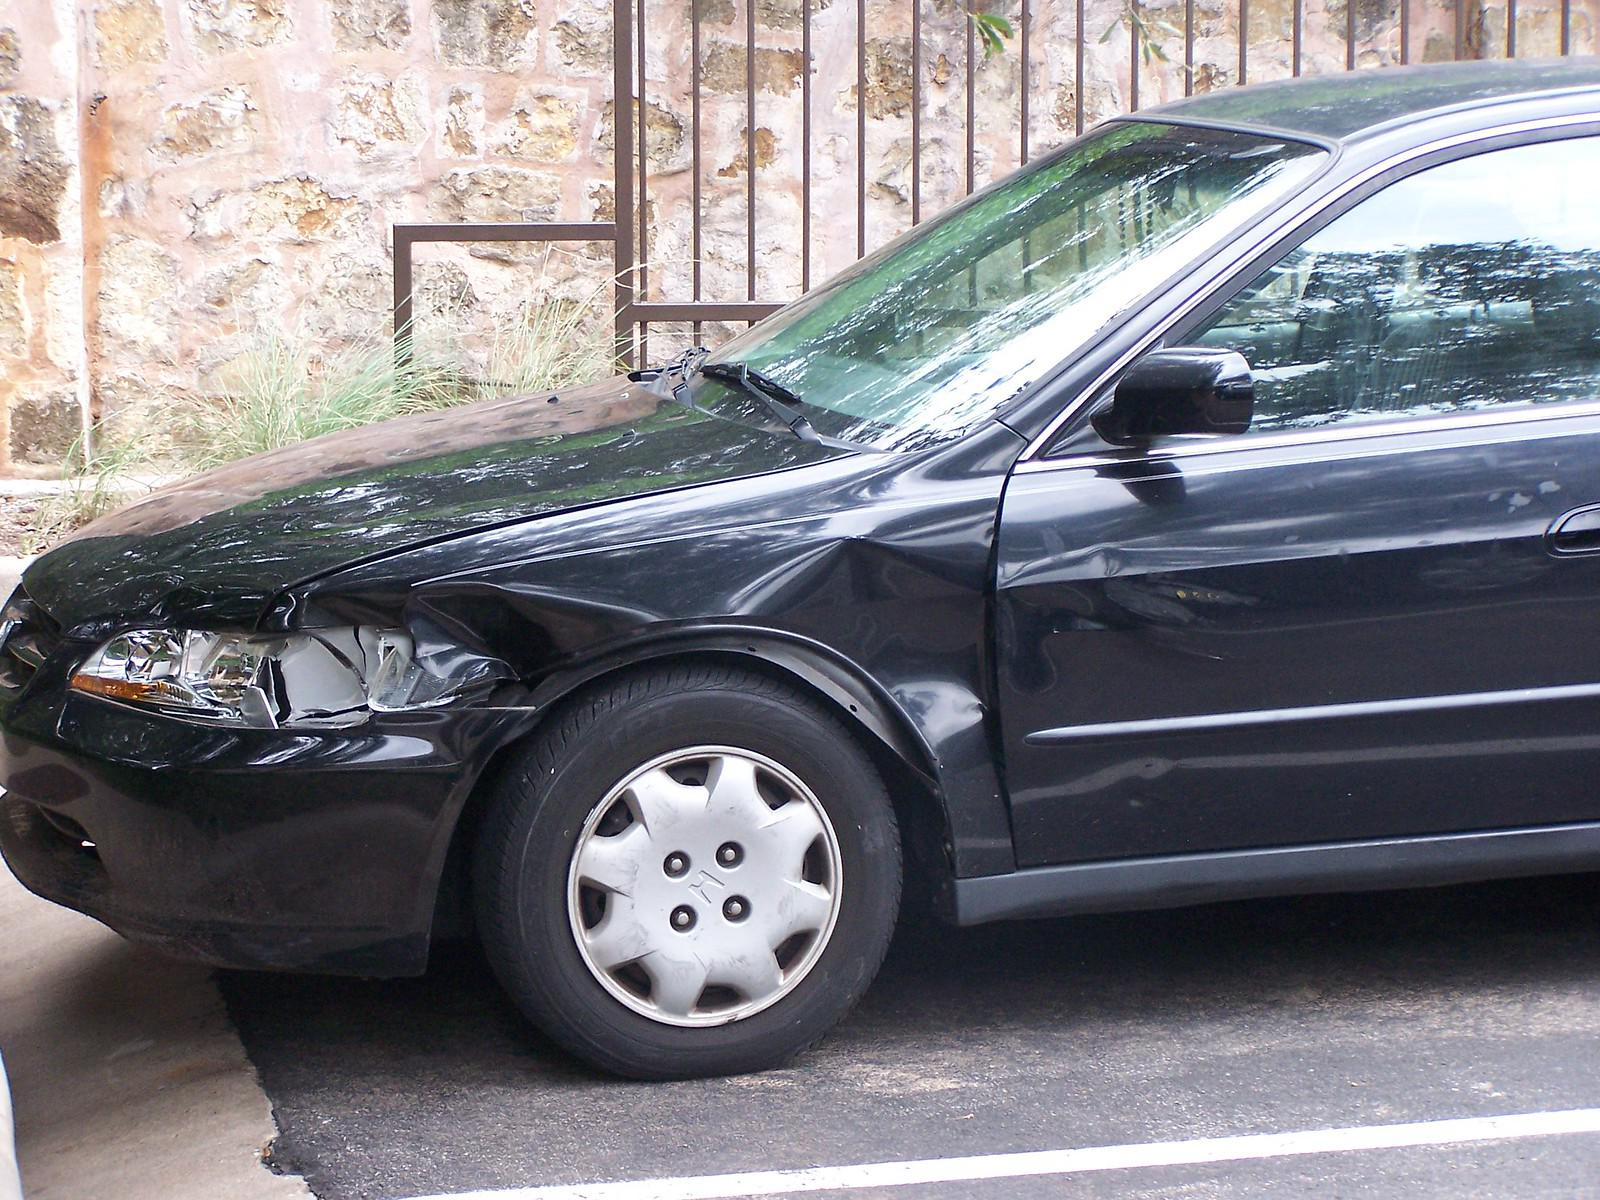Headlight-Damage: (31, 539, 480, 783)
bonnet-dent: (81, 343, 859, 563)
doorouter-dent: (998, 470, 1560, 890)
fender-dent: (396, 463, 1000, 892)
